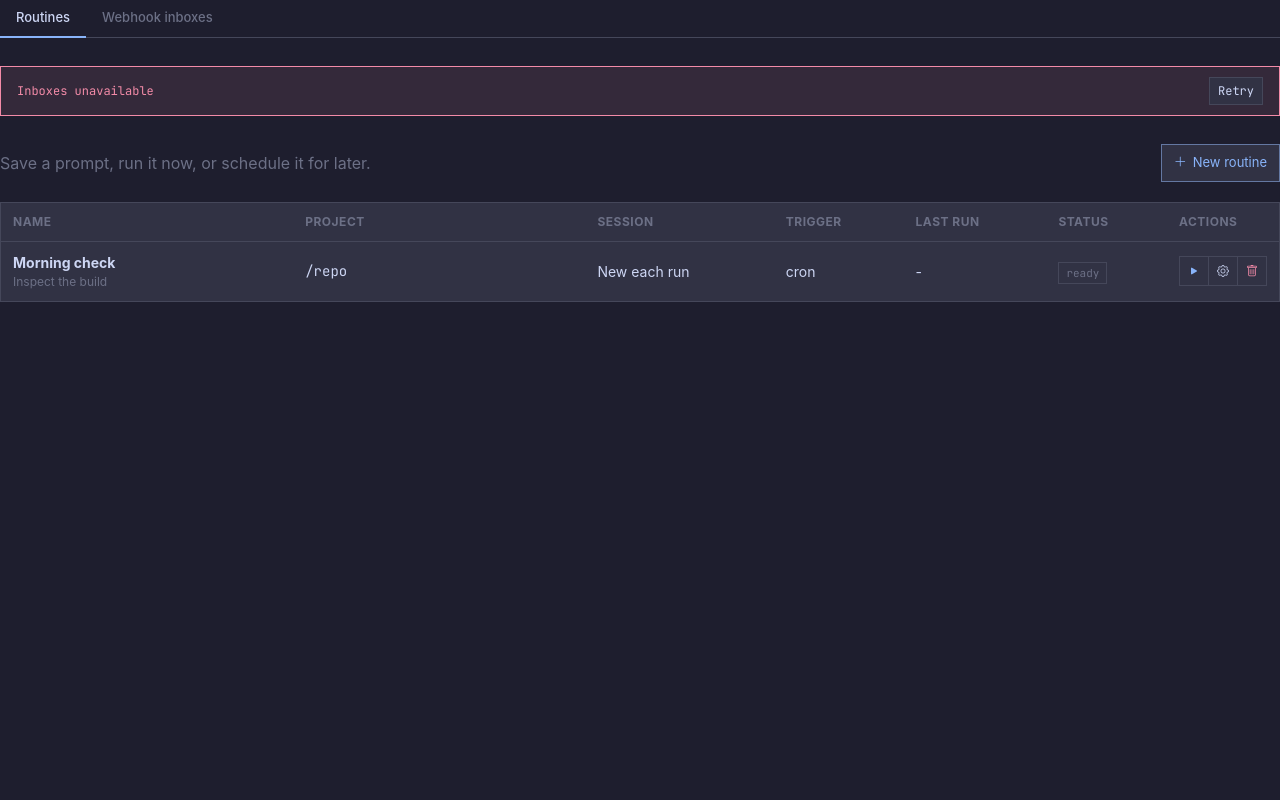
Test: Routines › opens New routine while the inbox list is failed
What coordinates should you click on to do the following:
click the button "New routine"
I would click on:
 (1220, 162)
Its box is [1161,144,1279,182].
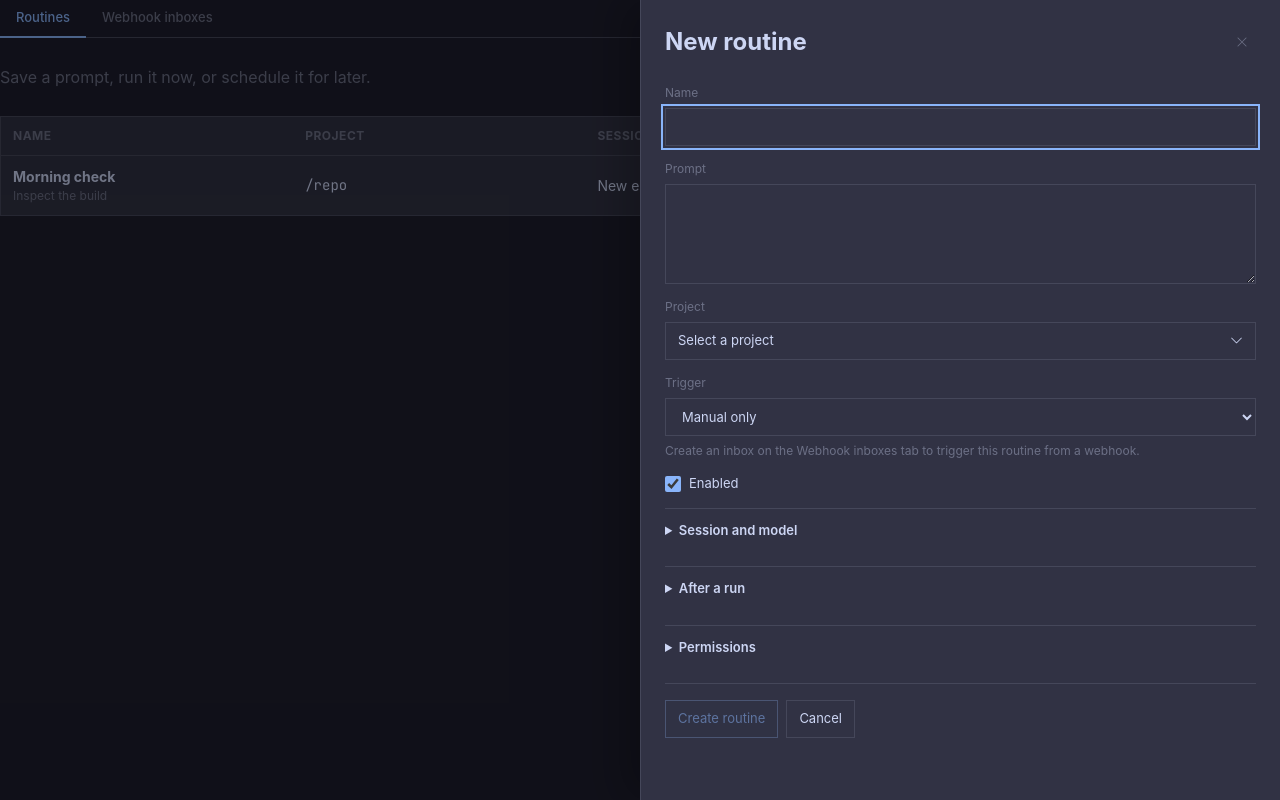
Expected: the field labelled "Name" is shown, [665,108,1256,146]
What coordinates should you click on to do the following:
click the button "Cancel"
I would click on:
 (821, 719)
Its box is [786,700,855,738].
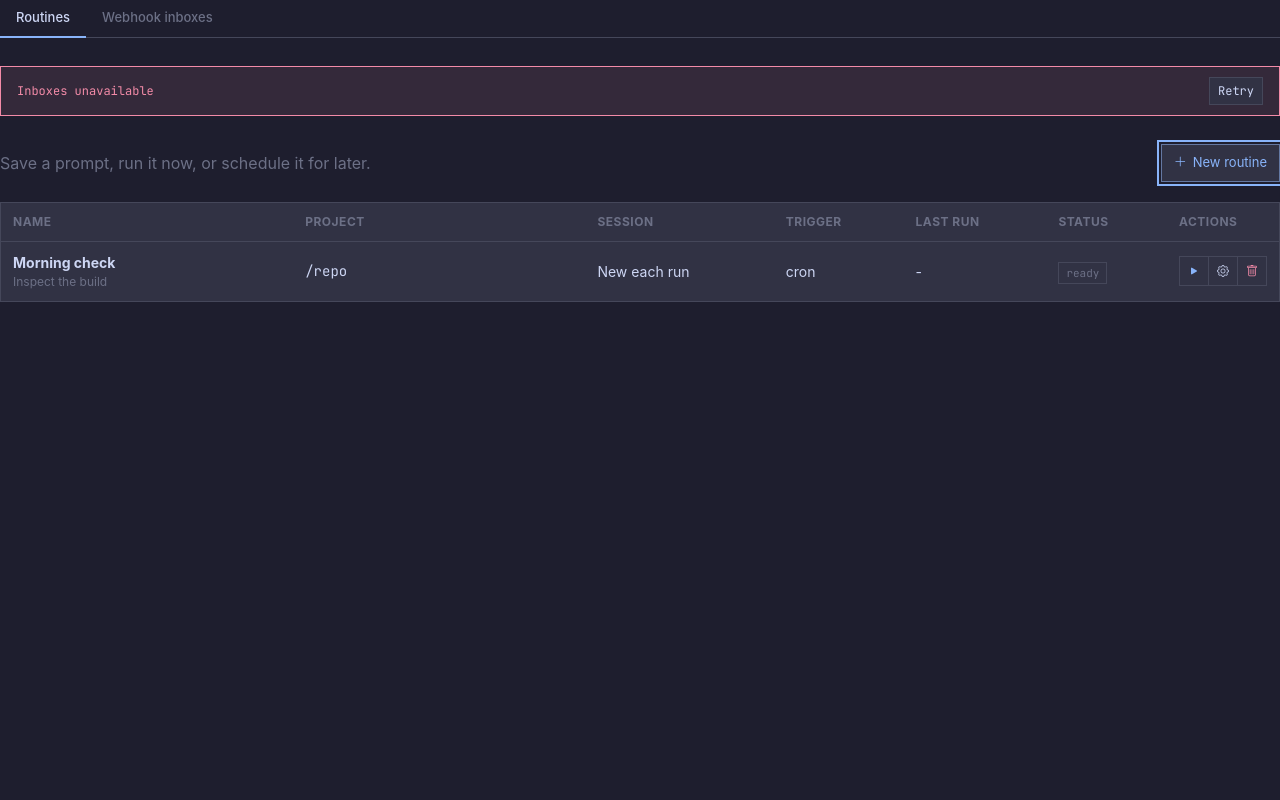
Expected: the message shows "Inboxes unavailable", [17,82,154,98]
